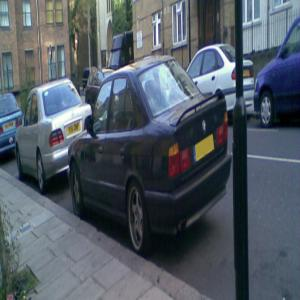Vehicle-registration-plate: (193, 133, 216, 164), (67, 120, 82, 135)
